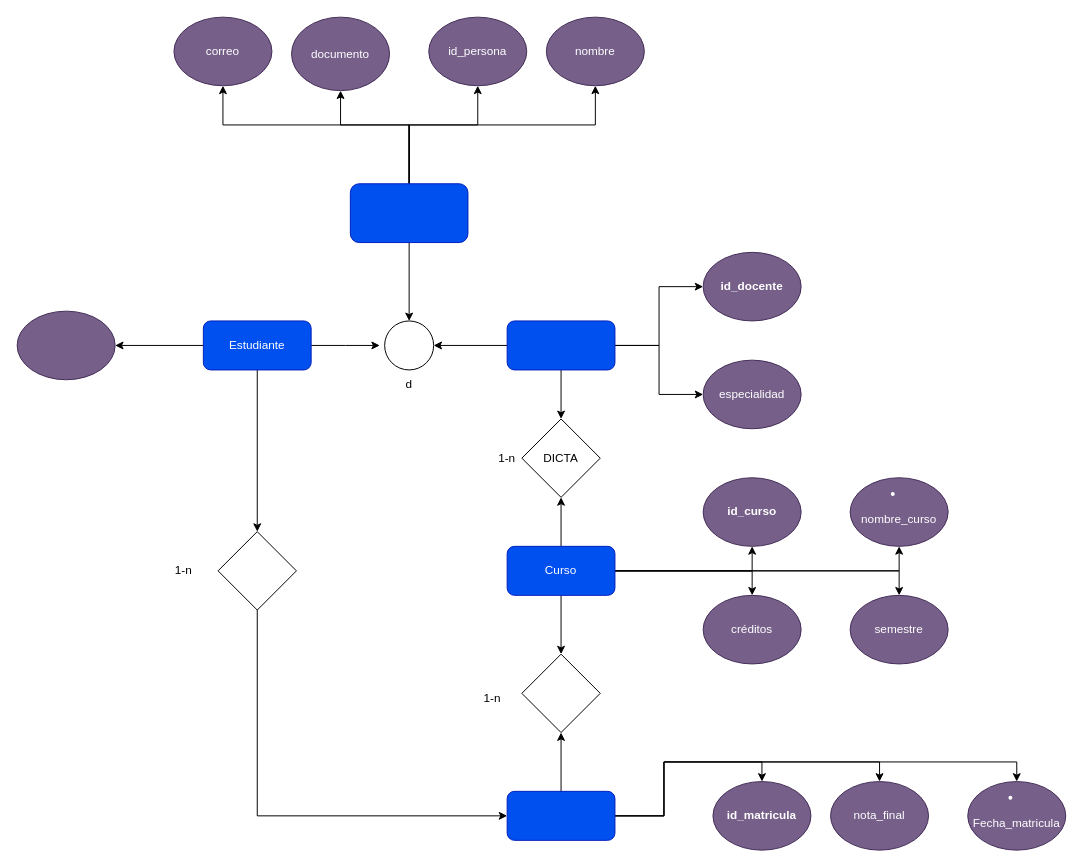
This 1083x867 diagram has some shape labels left out. Each missing label, with the centre of its shape:
"Docente" belongs at pixel 560 345.
"id_estudiante" belongs at pixel 65 345.
"MATRICULA" belongs at pixel 256 570.
"Matrícula" belongs at pixel 560 815.
"Persona" belongs at pixel 408 213.
"PERTENESE" belongs at pixel 560 693.
